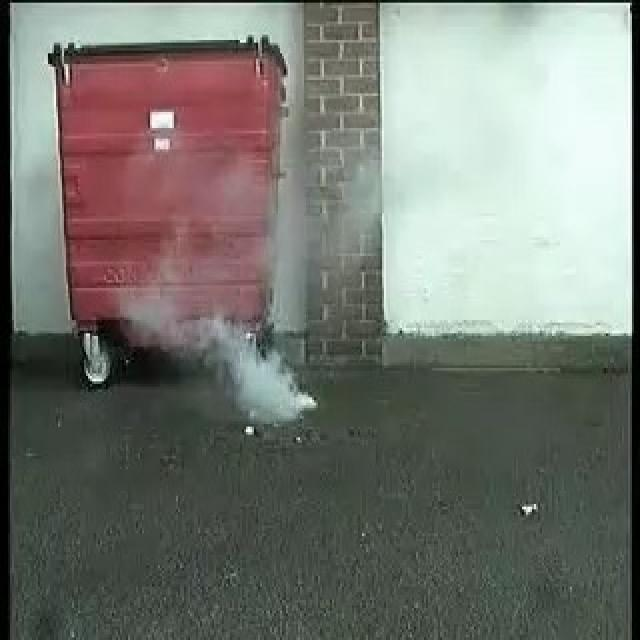smoke: (143, 297, 316, 420)
